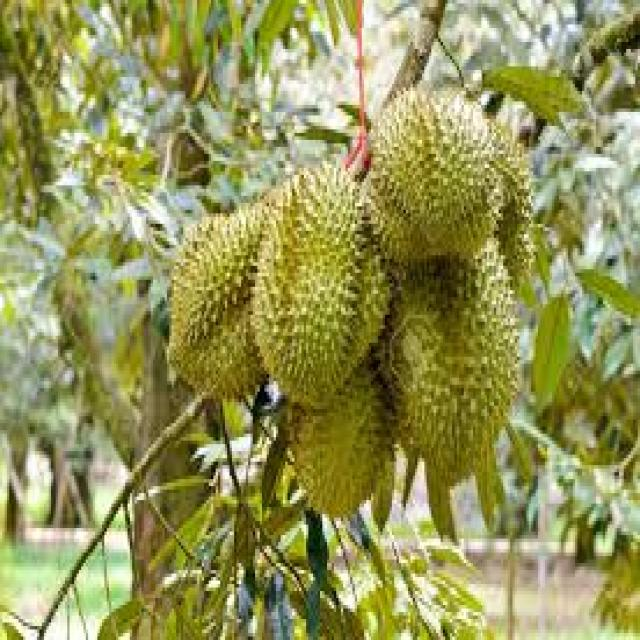immature: (252, 163, 394, 418), (376, 243, 521, 483), (361, 83, 508, 264), (170, 198, 270, 400), (282, 345, 392, 519)
